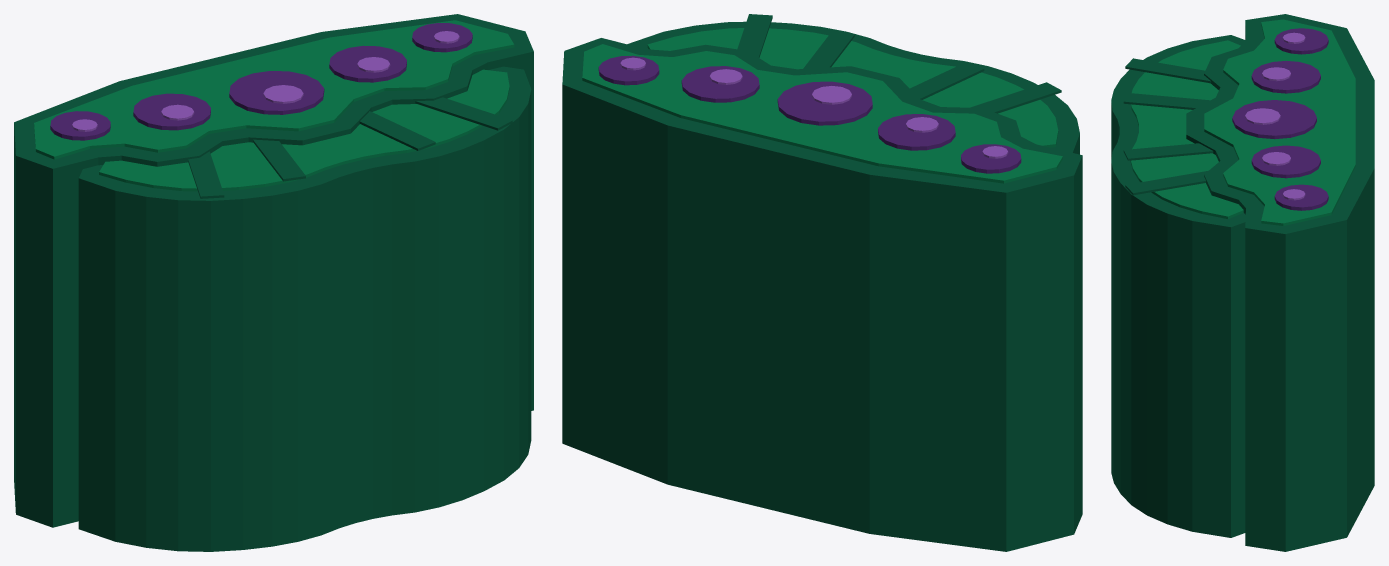
The model's file is bag_carapaca_ametista.fbx.
3 renders of one model, left to right at view 1: azimuth 30°, elevation 25°; view 2: azimuth 150°, elevation 25°; view 3: azimuth 270°, elevation 25°, orthographic. The views are drawn at different scales.
Parts seen in each view (by area): view 1: bag_carapaca_ametista_mochila; view 2: bag_carapaca_ametista_mochila; view 3: bag_carapaca_ametista_mochila.
Boxes of the visible parts, x1,y1,x2,y2 form: bag_carapaca_ametista_mochila: (14,14,533,551); bag_carapaca_ametista_mochila: (562,14,1082,551); bag_carapaca_ametista_mochila: (1111,14,1374,551).
Size of the model in its own units: 2.7 by 1.87 by 1.37.
1 material, 1 textured.
